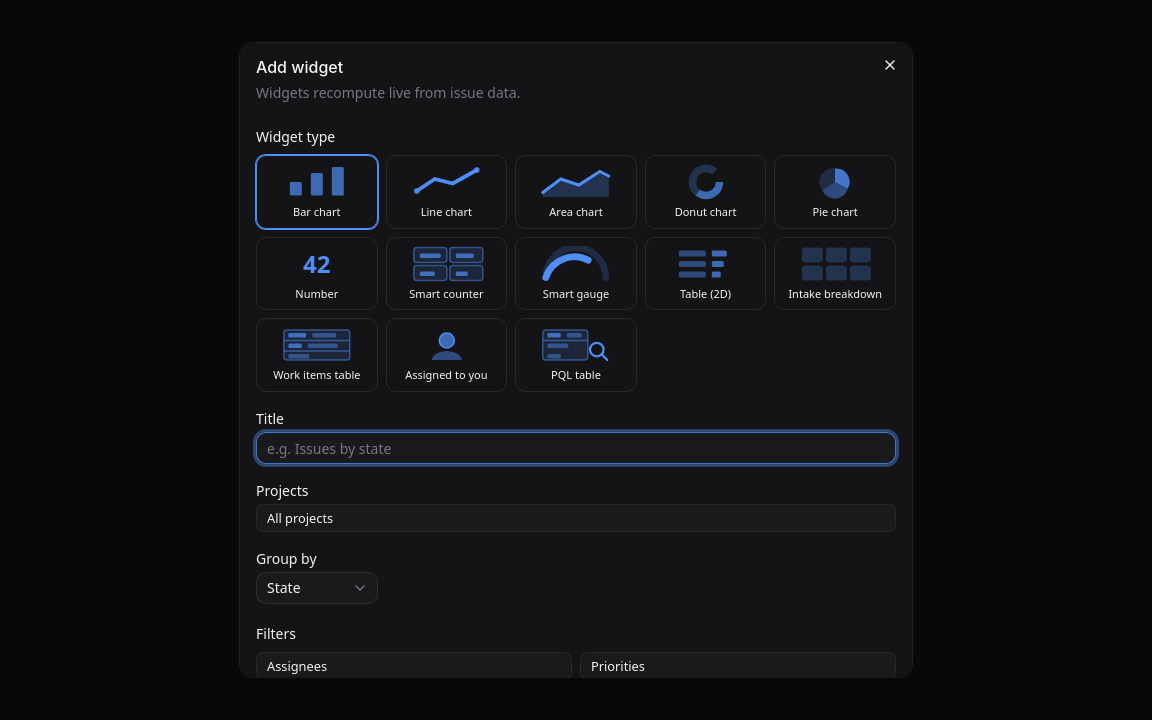
it: WidgetDialog phase-2 config panels › shows gauge color and the show-percentage switch for smart_gauge
Click the radio button labelled "Smart gauge". click: point(576, 274)
box: top-left (515, 237), bottom-right (637, 311)
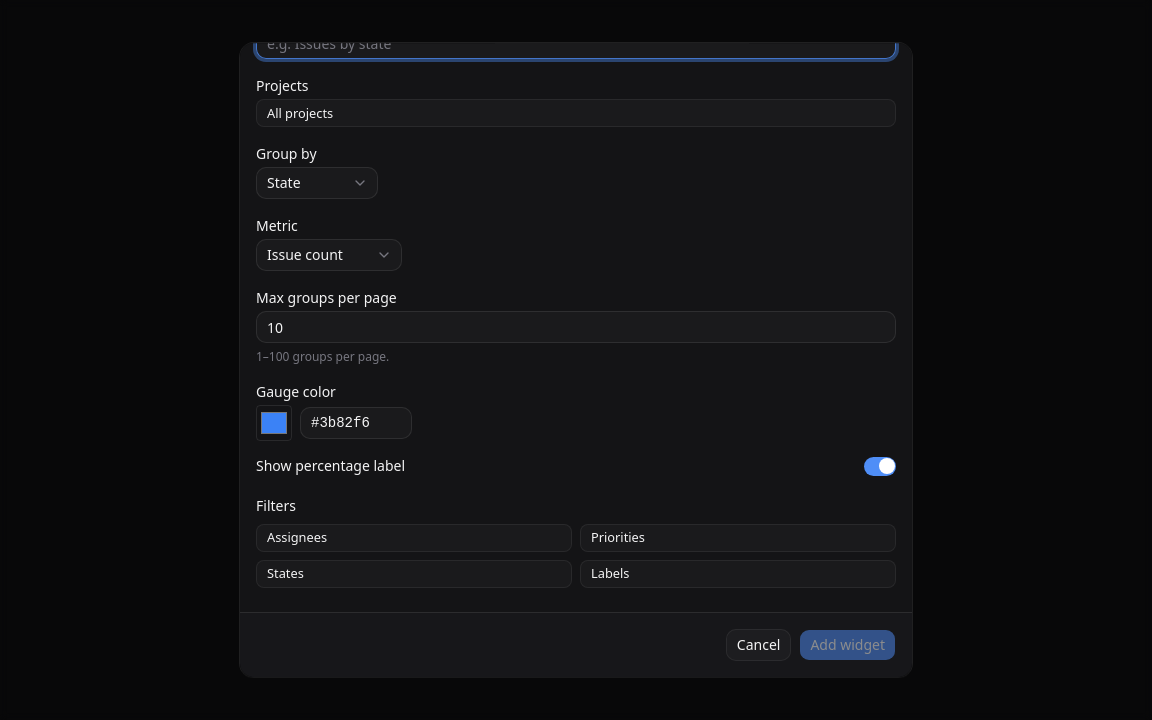
Expected: the colour field labelled "Gauge color" is shown, top-left (256, 405), bottom-right (292, 441)
Expected: the switch named "Show percentage label" is shown, top-left (864, 457), bottom-right (896, 476)
